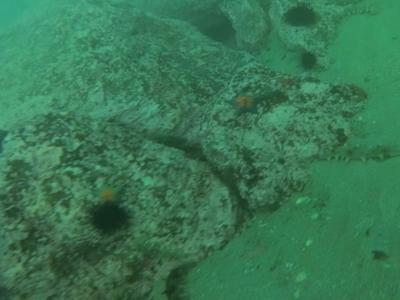holothurian: (319, 144, 394, 163)
urchin: (82, 201, 136, 239), (283, 5, 319, 27), (300, 51, 318, 71)
